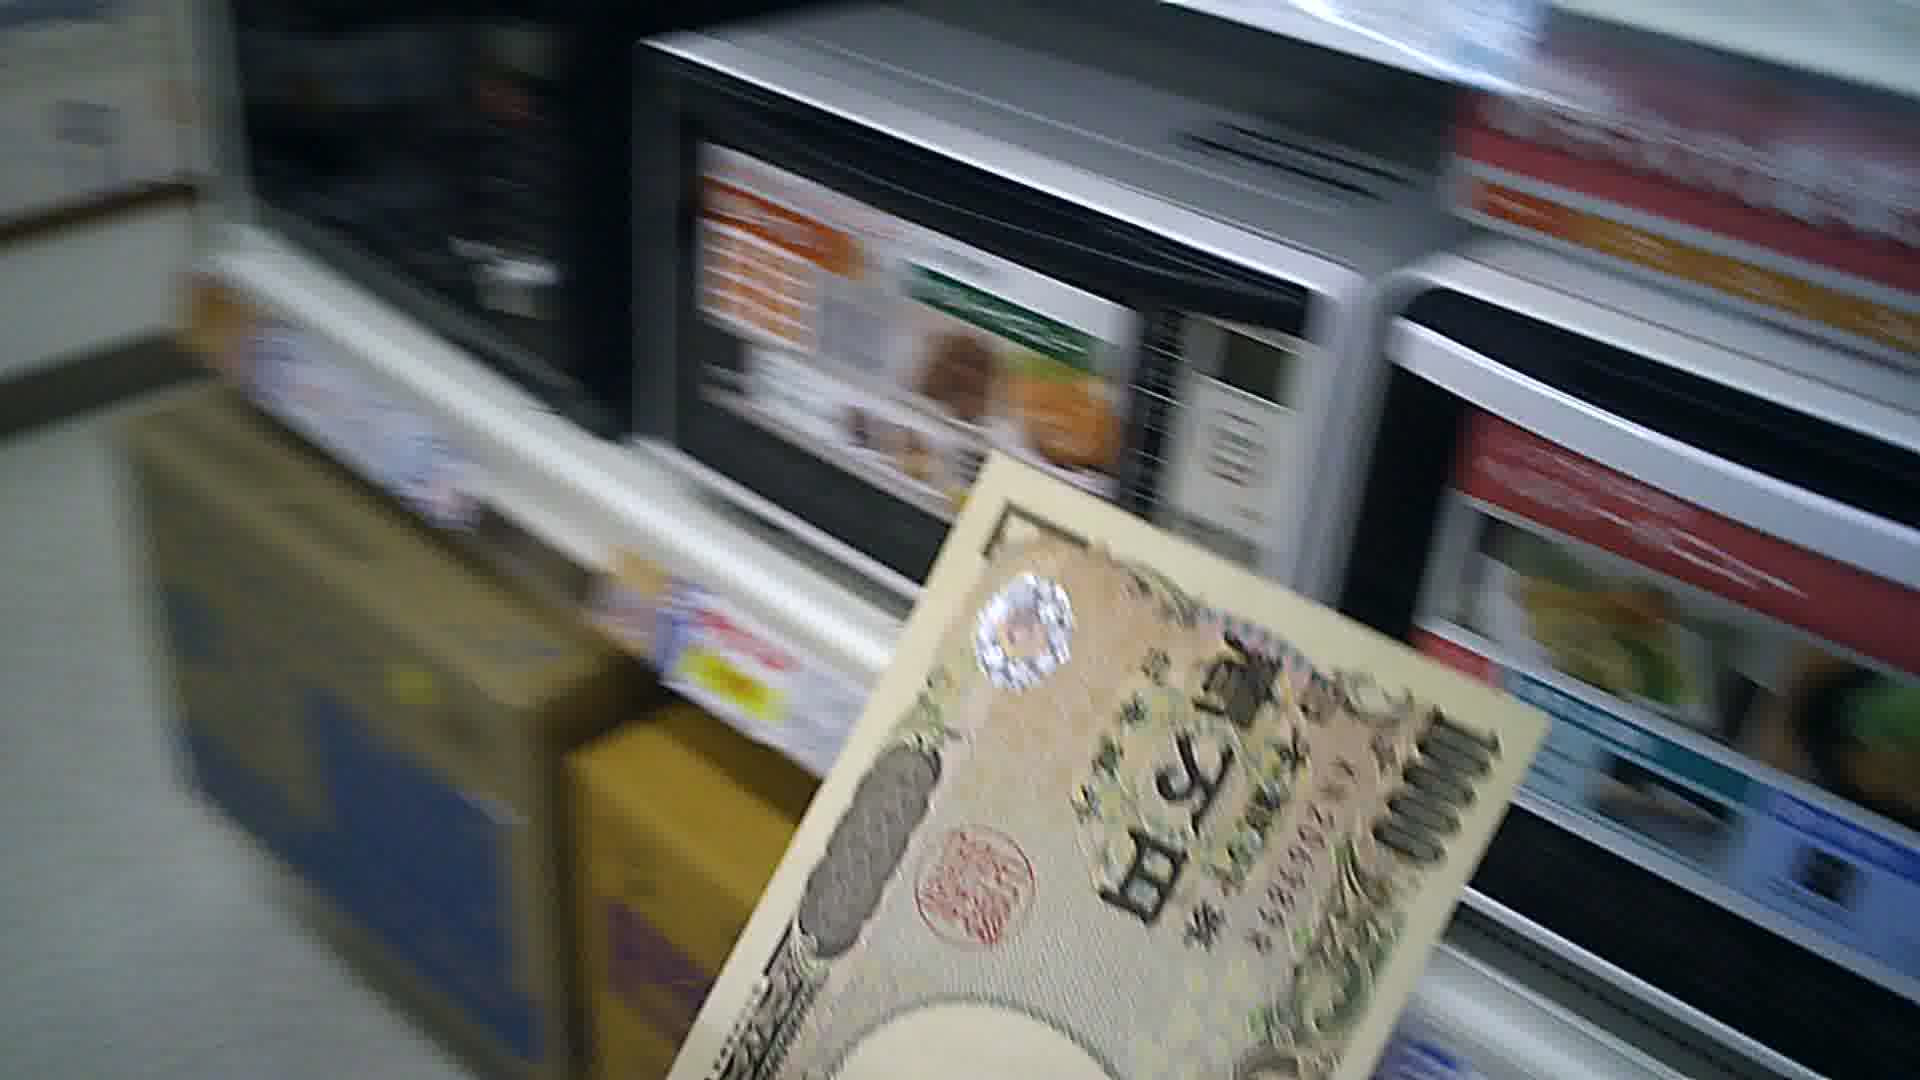10,000 Yen: (611, 464, 1536, 1079)
